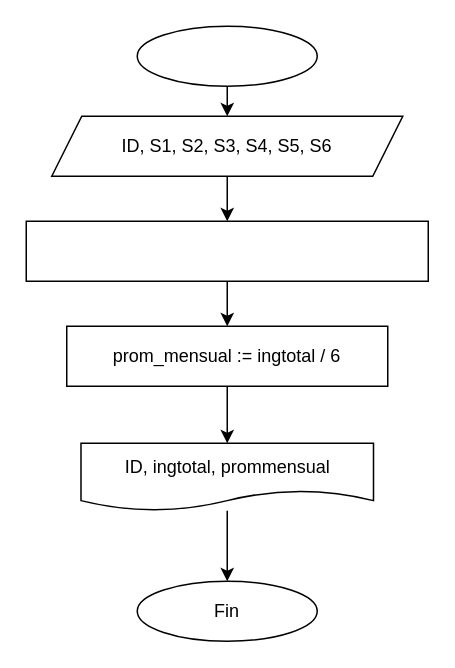
Image size: 455x668. Some labels were removed from this diagram. Each missing label, with the box of its shape:
ing_total := S1 + S2 + S3 + S4 + S5 + S6: (25, 220, 428, 281)
Inicio: (136, 25, 317, 86)
